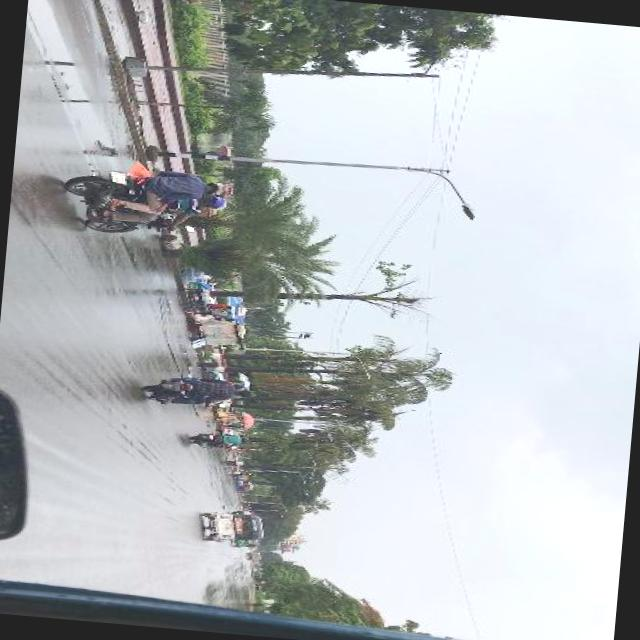car: (216, 426, 242, 434)
motorcycle: (57, 159, 236, 244), (140, 370, 254, 412), (199, 509, 267, 545), (188, 429, 250, 451), (233, 538, 260, 548), (232, 509, 255, 515)
truck: (245, 550, 262, 560)
